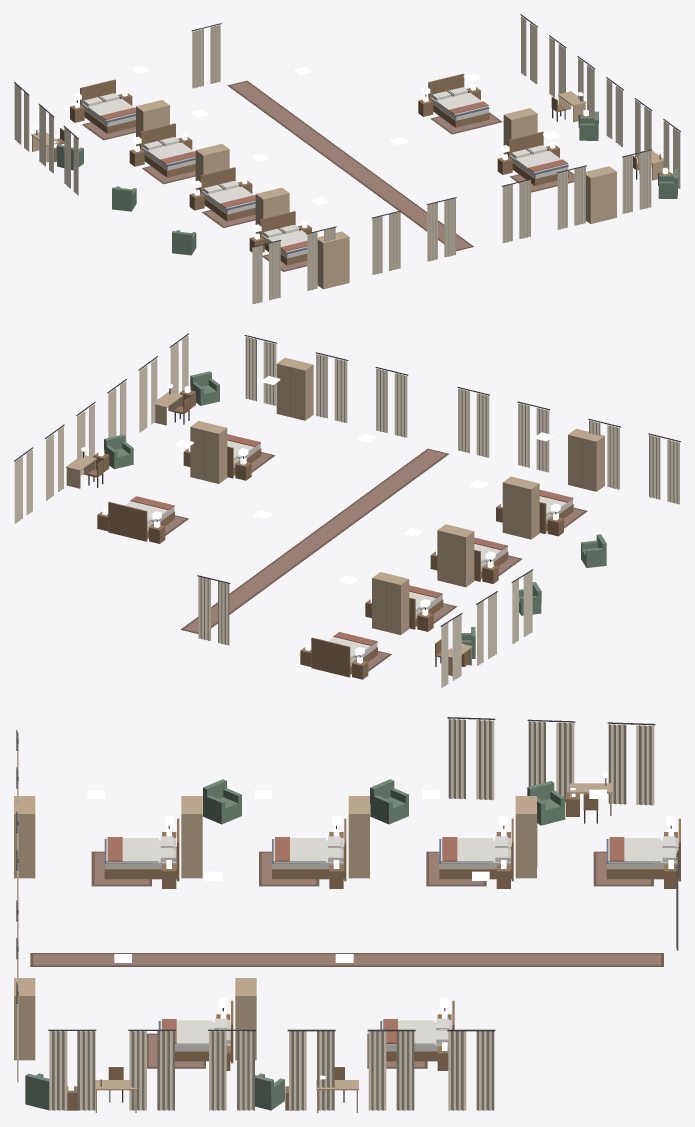
The model's file is fine-s2.glb.
3 views of the same model, one above another, from view 1: azimuth 30°, elevation 25°; view 2: azimuth 150°, elevation 25°; view 3: azimuth 270°, elevation 25° (orthographic). The views are drawn at different scales.
Visible parts, largest first — view 1: soft-s2, dresser.011, dresser.007, bed-frame.006, bed-frame.010, bed-frame.009, bed-frame.008, bed-frame.007, bed-frame.011, dresser.009, dresser.010, dresser.006 (+6 smaller); view 2: soft-s2, dresser.009, dresser.010, dresser.008, dresser.006, dresser.007, dresser.011, bed-frame.006, bed-frame.008, lounge-chair.005, lounge-chair.006, lounge-chair.009 (+2 smaller); view 3: soft-s2, dresser.008, dresser.010, dresser.009, dresser.011, dresser.007, bed-frame.011, bed-frame.010, lounge-chair.008, lounge-chair.009, bed-frame.008, dresser.006 (+6 smaller).
Boxes of the visible parts, box(x1,y1,x2,y2) form: soft-s2: box(14, 14, 680, 304); dresser.011: box(317, 231, 349, 289); dresser.007: box(586, 166, 616, 223); bed-frame.006: box(428, 73, 489, 127); bed-frame.010: box(199, 167, 255, 221); bed-frame.009: box(140, 123, 195, 177); bed-frame.008: box(80, 79, 135, 133); bed-frame.007: box(507, 131, 568, 185); bed-frame.011: box(259, 211, 307, 265); dresser.009: box(195, 144, 229, 189); dresser.010: box(255, 187, 289, 233); dresser.006: box(503, 108, 537, 154); soft-s2: box(14, 333, 680, 687); dresser.009: box(437, 524, 474, 587); dresser.010: box(502, 476, 539, 539); dresser.008: box(372, 572, 409, 634); dresser.006: box(190, 421, 227, 483); dresser.007: box(276, 357, 313, 420); dresser.011: box(568, 428, 604, 491); bed-frame.006: box(108, 501, 174, 541); bed-frame.008: box(311, 637, 377, 677); lounge-chair.005: box(104, 434, 133, 469); lounge-chair.006: box(190, 371, 219, 405); lounge-chair.009: box(581, 534, 606, 567); soft-s2: box(16, 717, 678, 1110); dresser.008: box(515, 796, 537, 878); dresser.010: box(181, 796, 202, 878); dresser.009: box(348, 796, 369, 878); dresser.011: box(14, 796, 35, 878); dresser.007: box(14, 978, 35, 1060); bed-frame.011: box(104, 818, 179, 881); bed-frame.010: box(272, 818, 346, 881); lounge-chair.008: box(370, 779, 408, 824); lounge-chair.009: box(203, 779, 241, 824); bed-frame.008: box(606, 818, 680, 881); dresser.006: box(235, 978, 256, 1060).
Bounding box in the file's own units: 20.95 × 2.64 × 18.8.
